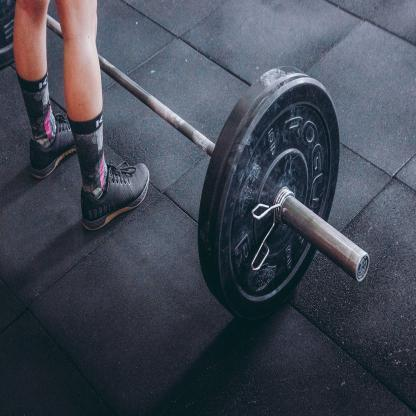barbell: (0, 0, 374, 320)
